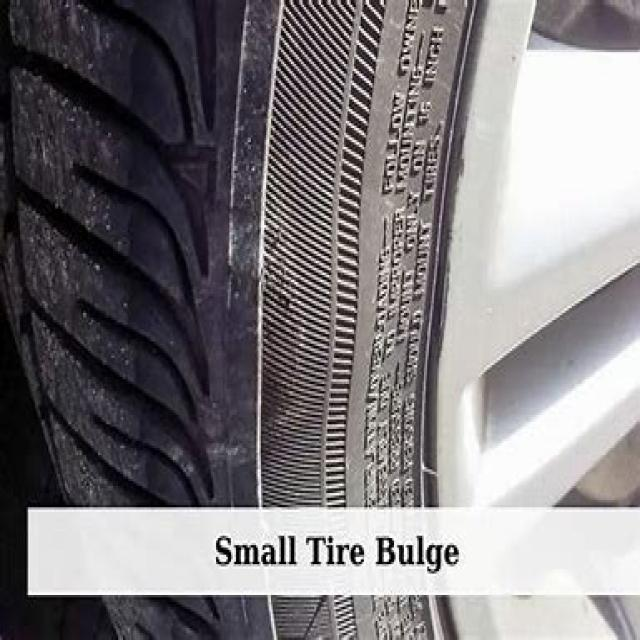Bulge: (223, 210, 310, 430)
